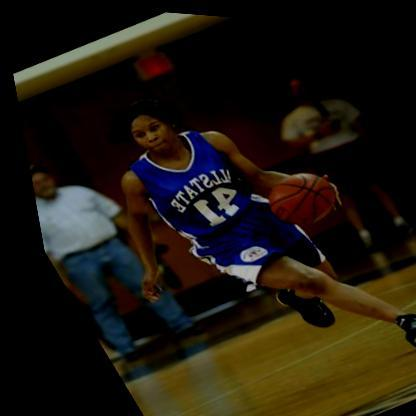basketball: (248, 157, 340, 234)
